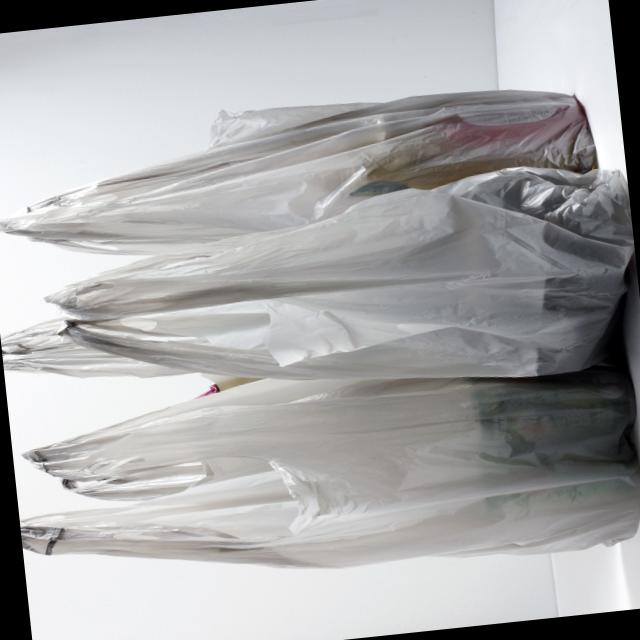plastic_bag: (0, 46, 640, 581)
